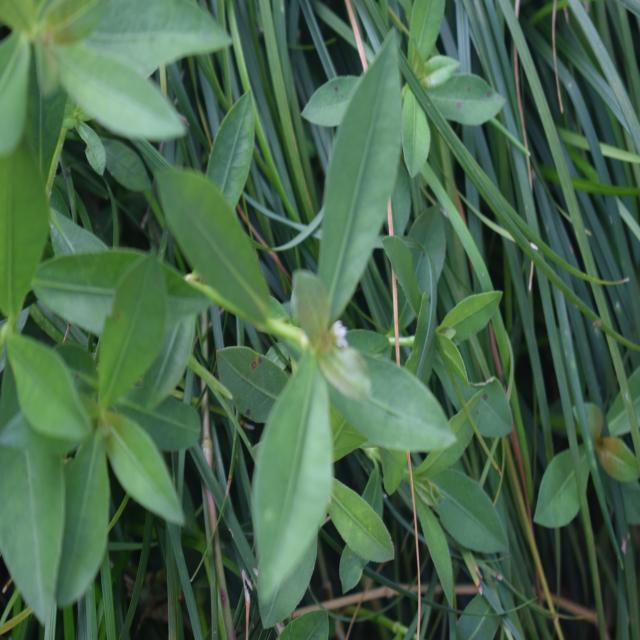Alligatorweed: (167, 21, 437, 588)
